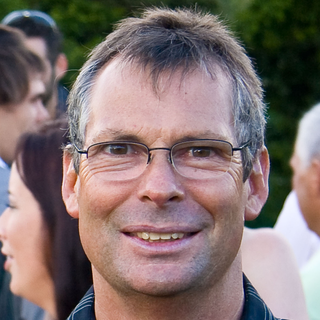eye: (95, 139, 142, 161), (180, 141, 225, 163)
